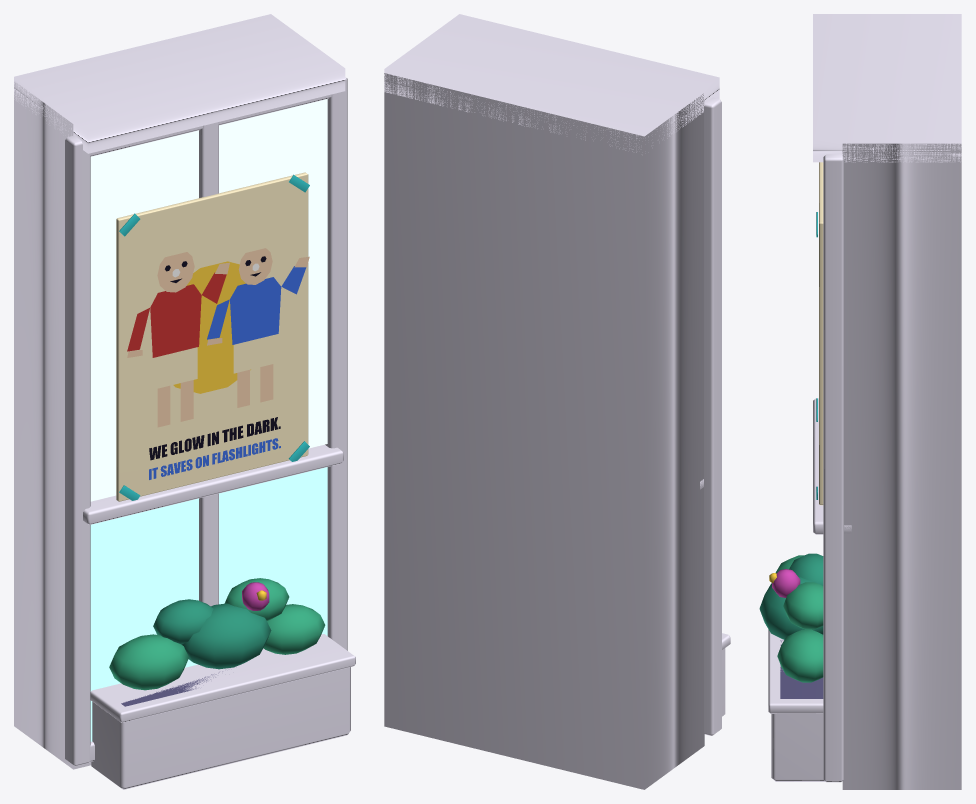
The model's file is wall_solarium_poster.glb.
The picture shows the model from 3 angles, left to right: view 1: azimuth 30°, elevation 25°; view 2: azimuth 150°, elevation 25°; view 3: azimuth 270°, elevation 25°; orthographic projection.
Visible parts, largest first — view 1: Wall; view 2: Wall; view 3: Wall.
Boxes of the visible parts, box(x1,y1,x2,y2) form: Wall: box(14, 14, 355, 789); Wall: box(384, 14, 730, 789); Wall: box(759, 14, 961, 789).
Bounding box in the file's own units: 1.07 × 2.41 × 0.68.
